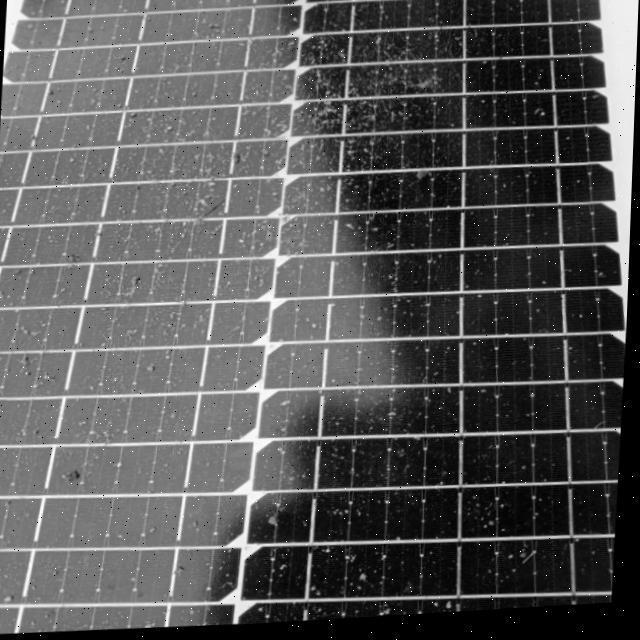Surface Contaminant: (2, 0, 639, 633)
